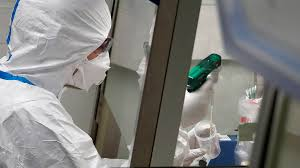mask: (19, 1, 121, 108)
